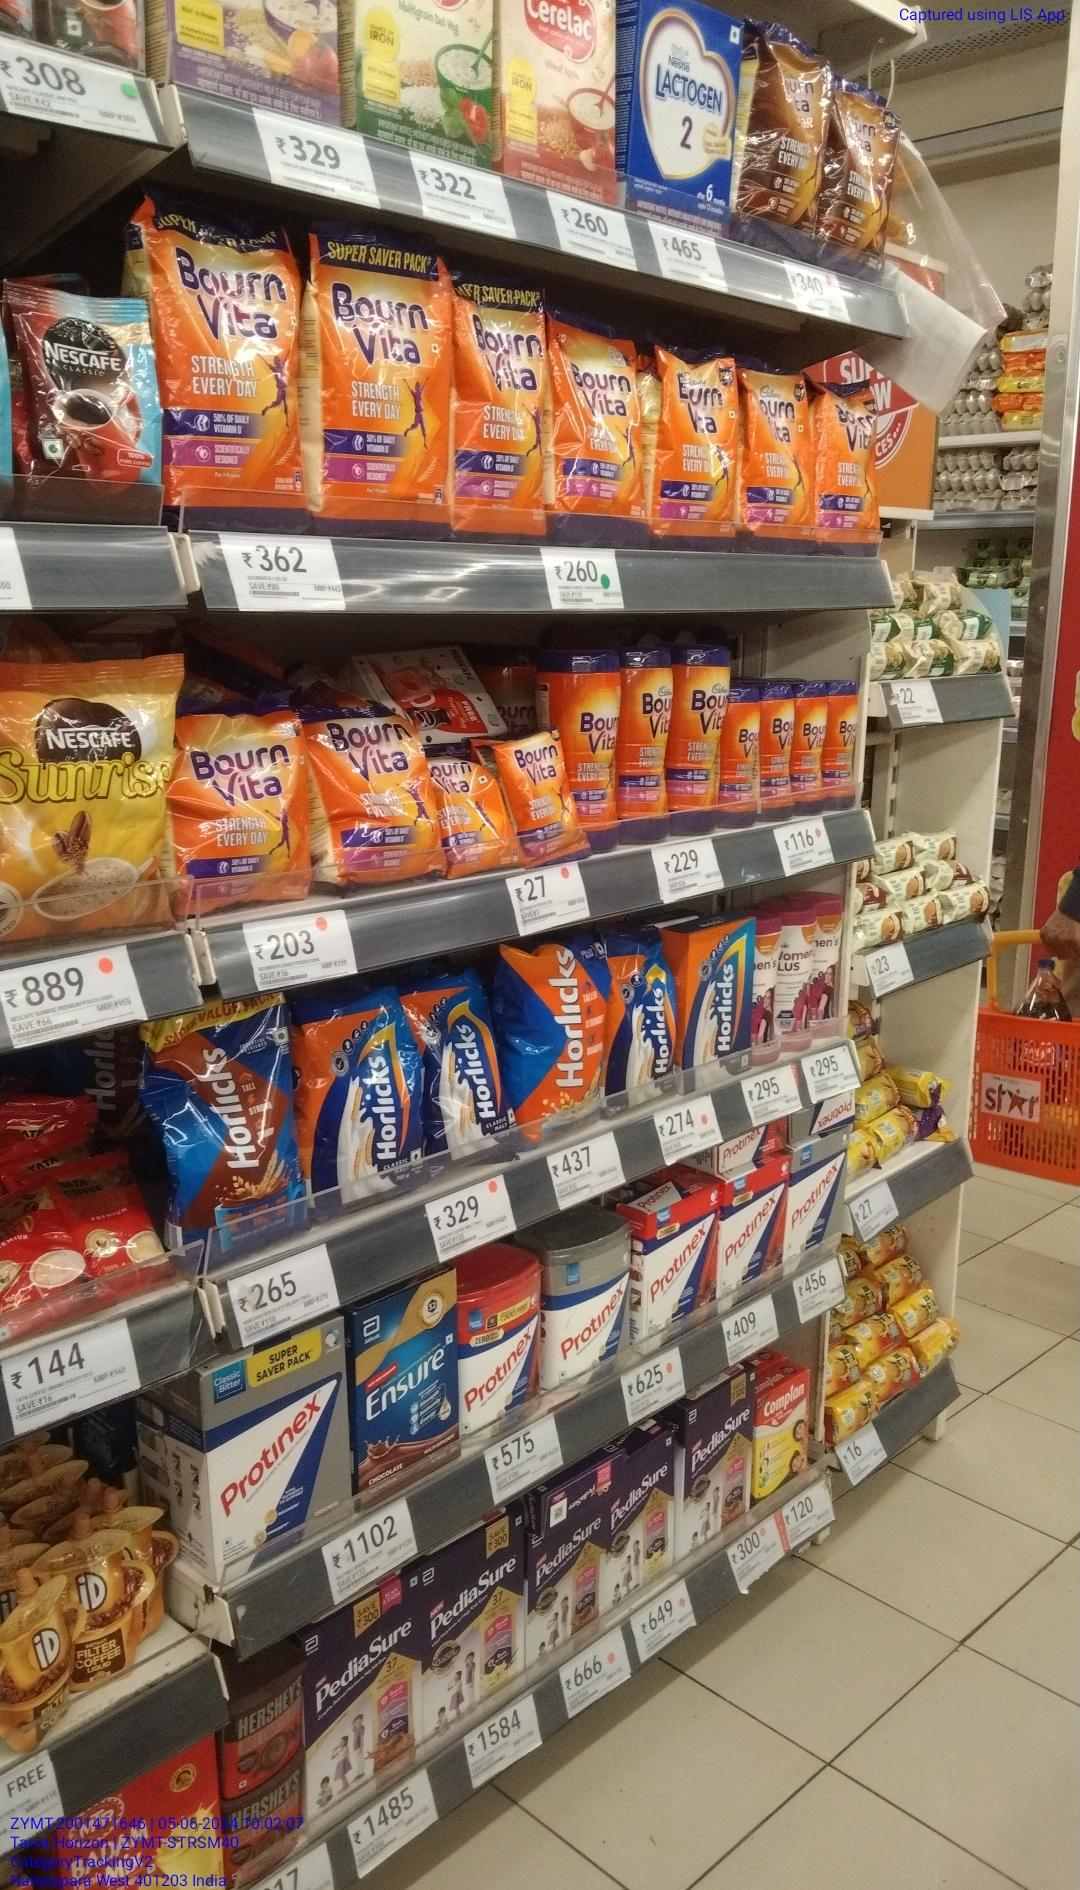BOURN_VITA_FIVE_STAR_MAGIC_750_G_POUCH: (742, 18, 824, 241), (831, 67, 901, 260)
PEDIASURE_CHOCOLATE_500_G_PACK: (528, 1508, 602, 1676)
PEDIASURE_VANILLA_500_G_PACK: (610, 1440, 672, 1604)
PROTINEX_CHOCOLATE_400_G_JAR: (460, 1262, 536, 1443)
PROTINEX_ORIGINAL_400_G_JAR: (540, 1221, 632, 1389)
